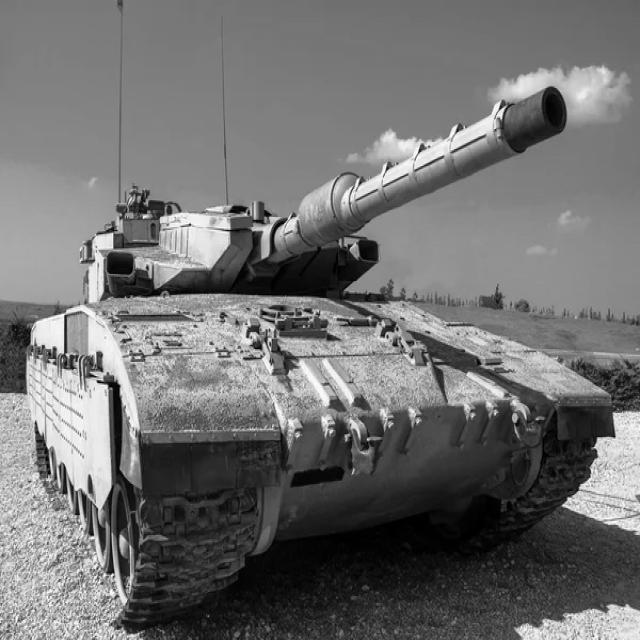Tank: (26, 72, 614, 628)
